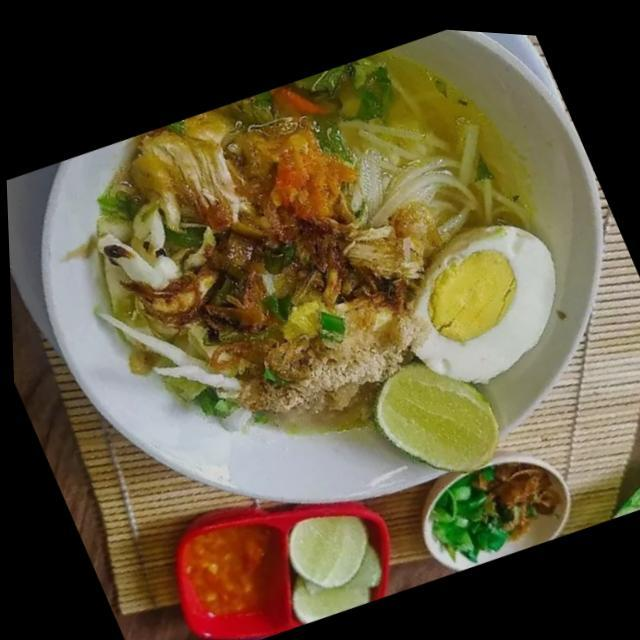Soto: (91, 51, 555, 440)
